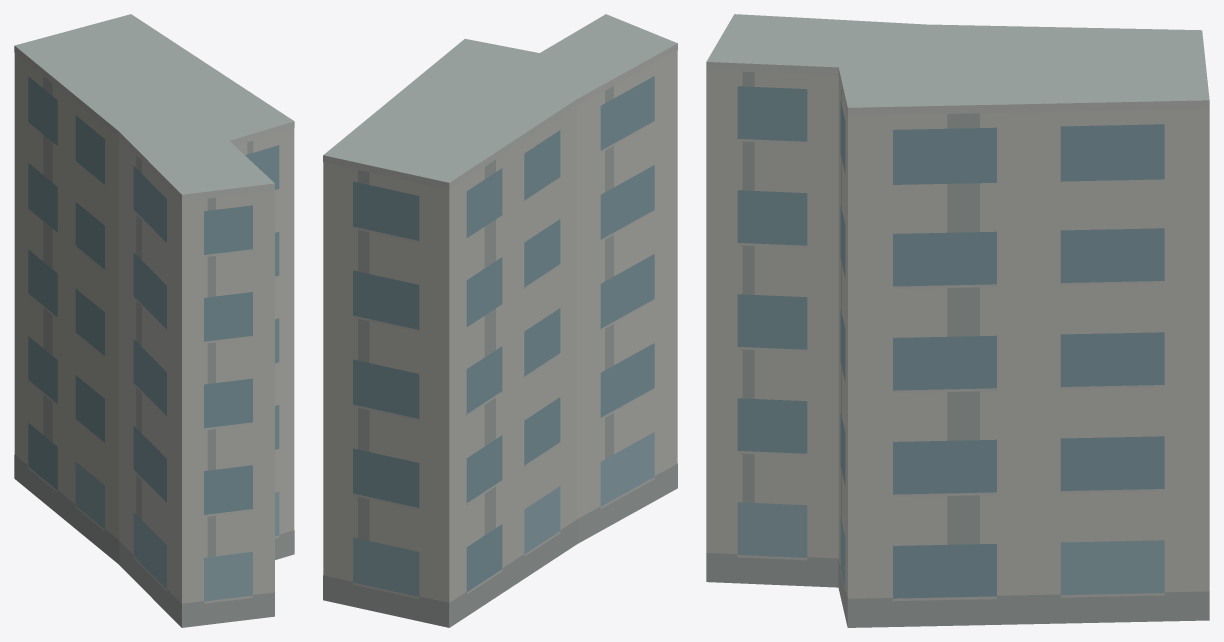
The model's file is survey-upis-32940491.glb.
3 views of the same model, side by side, from view 1: azimuth 30°, elevation 25°; view 2: azimuth 150°, elevation 25°; view 3: azimuth 270°, elevation 25° (orthographic). The views are drawn at different scales.
Parts seen in each view (by area): view 1: survey-upis-32940491.tmp; view 2: survey-upis-32940491.tmp; view 3: survey-upis-32940491.tmp.
Part boxes in pixels (<box>): survey-upis-32940491.tmp: <box>14,14,294,627</box>; survey-upis-32940491.tmp: <box>323,14,677,627</box>; survey-upis-32940491.tmp: <box>706,14,1209,627</box>.
Bounding box in the file's own units: 5.9 × 15.25 × 13.39.
